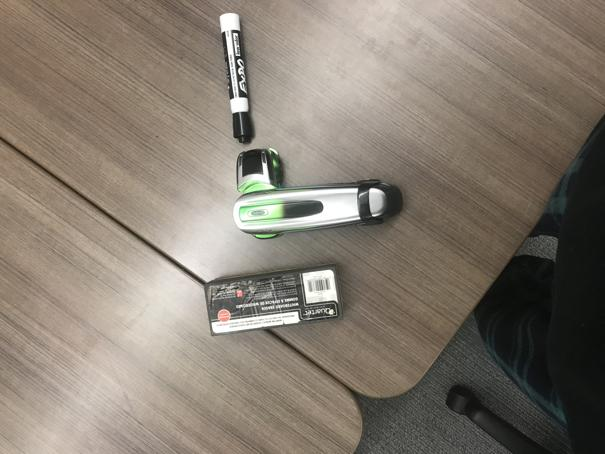Freewheel: (232, 147, 404, 239)
